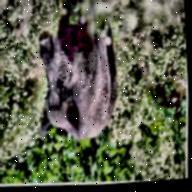boar: (29, 0, 124, 146)
